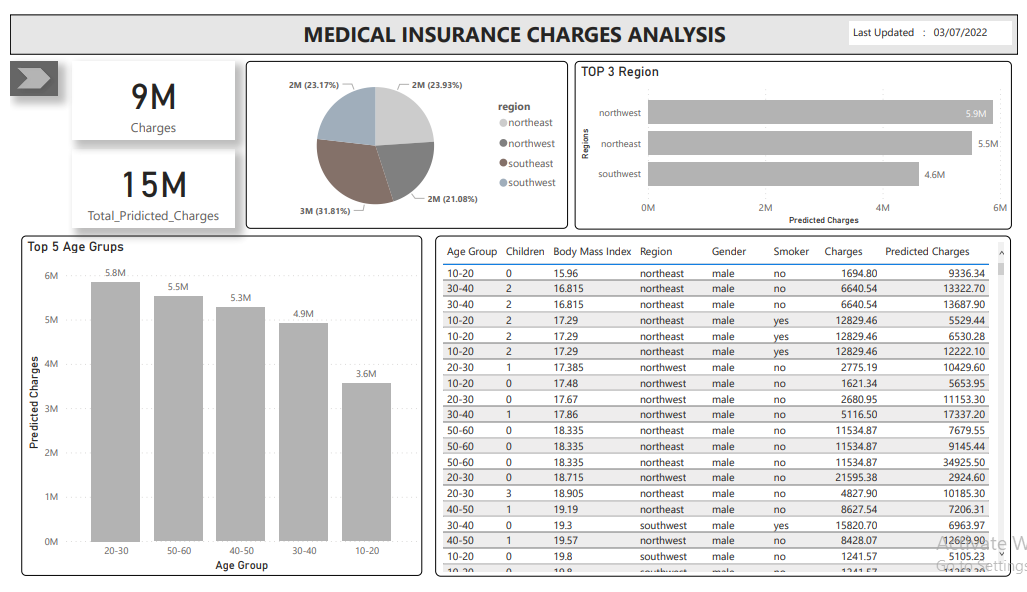

What the dashboard file says about the page in this screenshot:
{"tool":"powerbi","page":{"name":"Page 1","canvas":[1280,720],"ordinal":0},"visuals":[{"type":"clusteredColumnChart","title":"Top 5 Age Grups","fields":{"Category":["insurance.Age Group"],"Y":["Sum(predicted_charges.Predicted_Charges)"]},"box":[13.7,280.9,508.9,431.6],"z":0},{"type":"card","fields":{"Values":["key Measures (2).Total_Pridicted_Charges"]},"box":[79.9,172,205.8,100.4],"z":1000},{"type":"card","fields":{"Values":["key Measures (2).Total_Charges"]},"box":[79.9,59.4,205.8,100.4],"z":2000},{"type":"actionButton","box":[0,59.4,60.4,44],"z":6000},{"type":"textbox","box":[0,0,1280,51.2],"z":8000},{"type":"barChart","title":"TOP  3 Region","fields":{"Y":["key Measures (2).Total_Pridicted_Charges"],"Category":["insurance.region"]},"box":[716.8,58.4,555,214],"z":9000},{"type":"pieChart","fields":{"Category":["insurance.region"],"Y":["key Measures (2).Total_Charges"]},"box":[300,59.4,408.6,213],"z":10000},{"type":"textbox","box":[1065.7,8.8,205.5,30.3],"z":12000},{"type":"tableEx","fields":{"Values":["insurance.Age Group","insurance.children","insurance.bmi","insurance.region","insurance.sex","insurance.smoker","insurance.charges","predicted_charges.Predicted_Charges"]},"box":[540.2,280.9,731,432.5],"z":13000}]}

Visuals, with their boxes in screenshot pixels (x1, y1, x2, y2), scaled from the page's 1280x720 canvas onto the 1027x592 screenshot:
"Top 5 Age Grups" clusteredColumnChart: (left=11, top=231, right=419, bottom=586)
card - key Measures (2).Total_Pridicted_Charges: (left=64, top=141, right=229, bottom=224)
card - key Measures (2).Total_Charges: (left=64, top=49, right=229, bottom=131)
actionButton: (left=0, top=49, right=48, bottom=85)
textbox: (left=0, top=0, right=1026, bottom=42)
"TOP  3 Region" barChart: (left=575, top=48, right=1020, bottom=224)
pieChart - insurance.region x key Measures (2).Total_Charges: (left=241, top=49, right=569, bottom=224)
textbox: (left=855, top=7, right=1020, bottom=32)
tableEx - insurance.Age Group x insurance.children: (left=433, top=231, right=1020, bottom=587)
